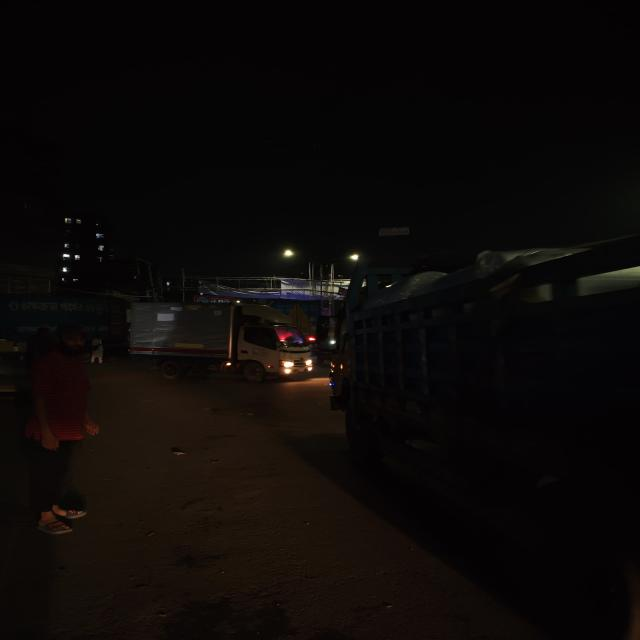pedestrian: (11, 322, 114, 546)
pickup_van: (320, 238, 637, 513)
truck: (120, 300, 317, 385)
